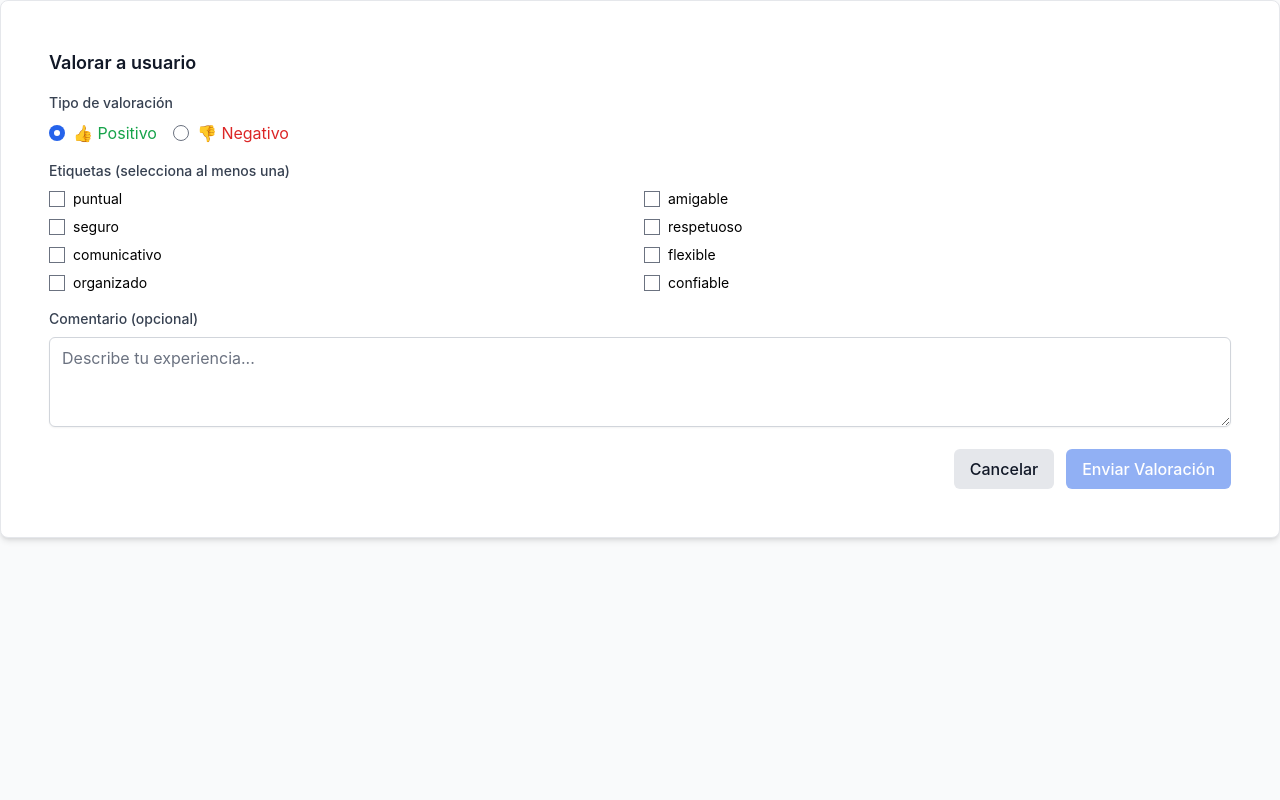
it: RatingForm › should show error when API fails
Note: Select a tag
Click the checkbox labelled "puntual".
click(57, 199)  # box [49,191,65,207]
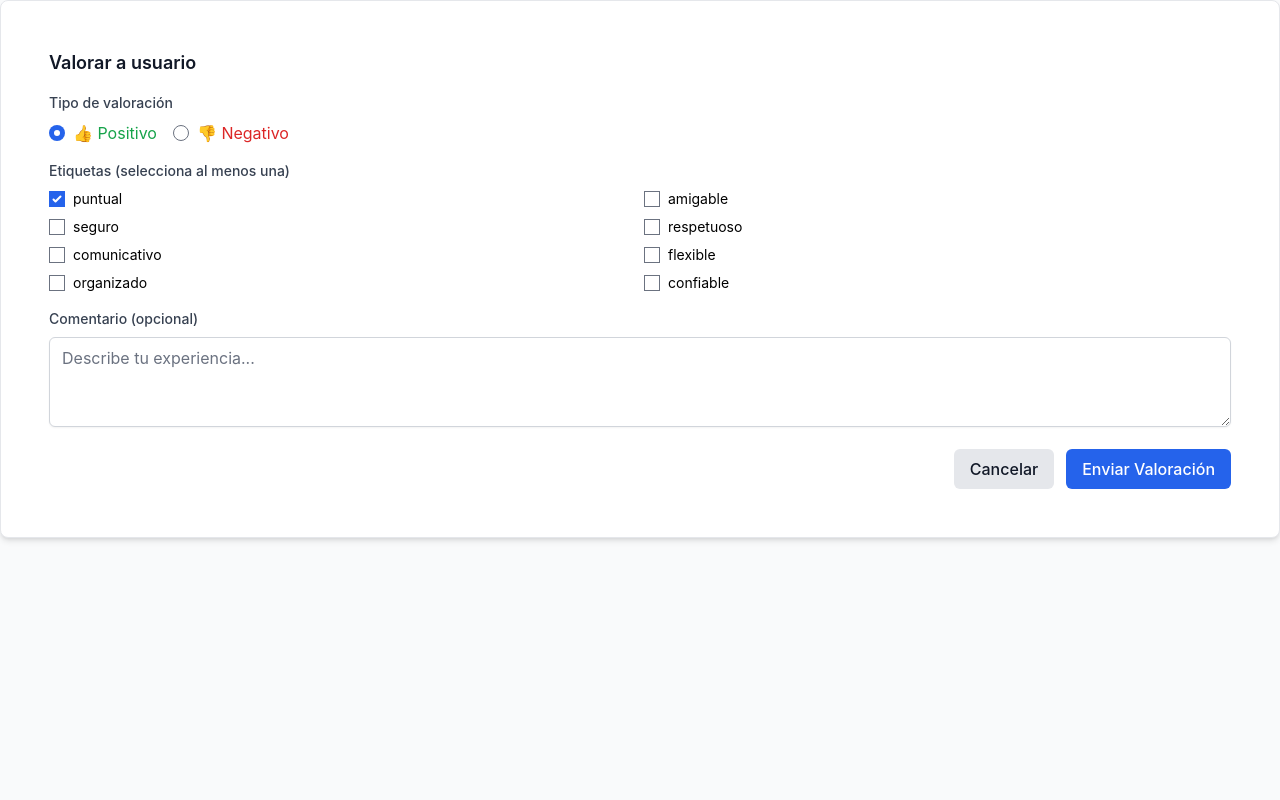
Note: Submit form
Click the button "Enviar Valoración".
click(1149, 469)  # box [1066,449,1231,489]
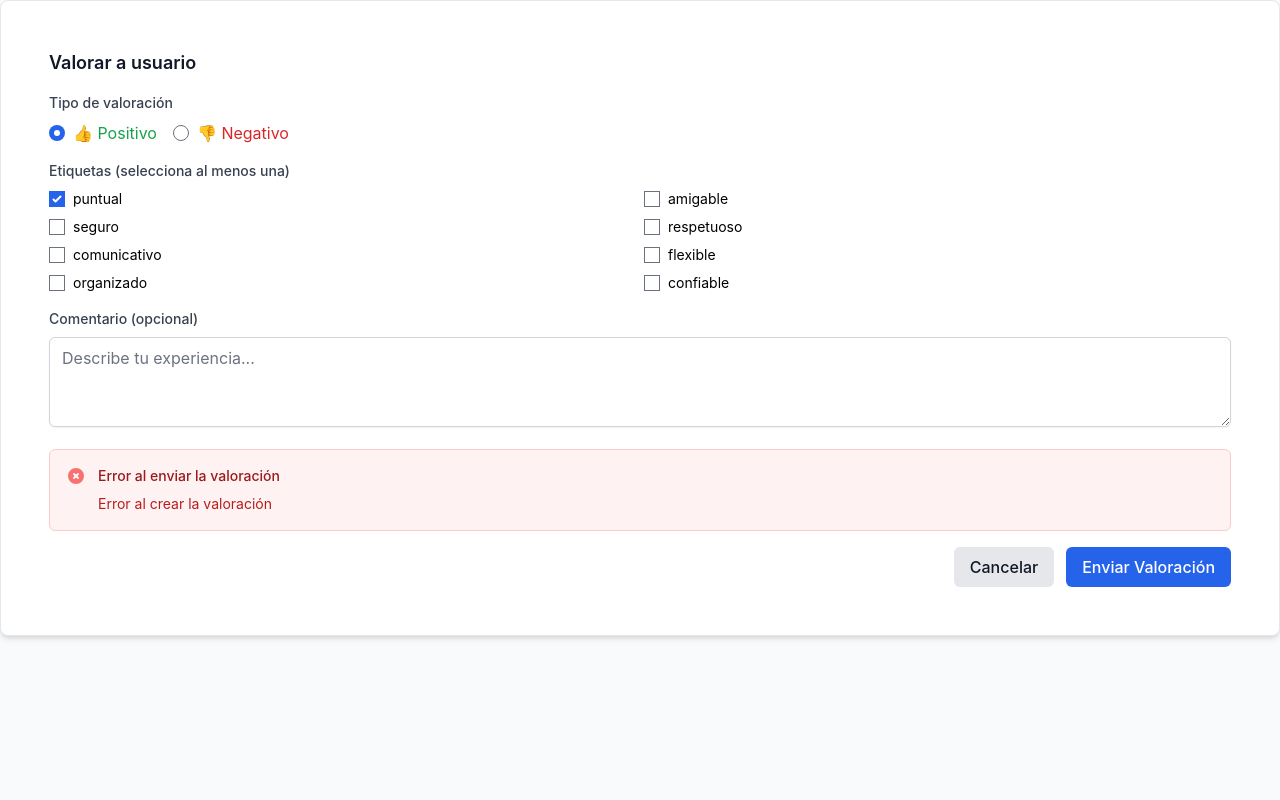
expect the text "Error al crear la valoración" is shown: met, box [98,494,280,514]
